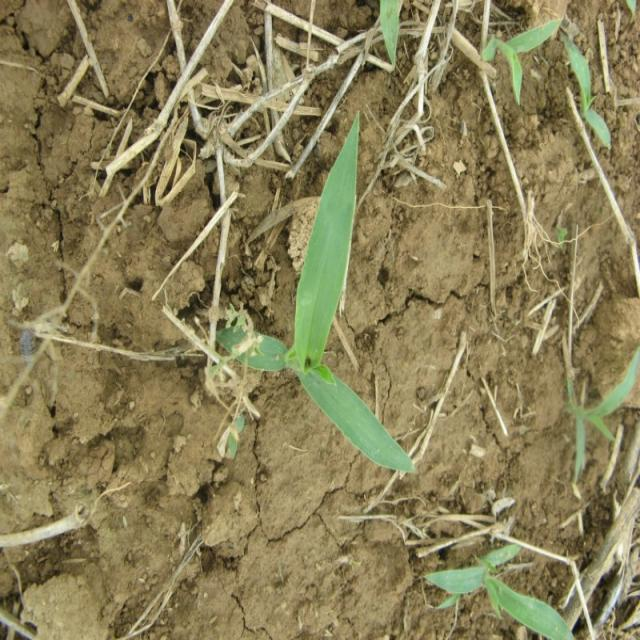bg: (218, 115, 428, 476)
